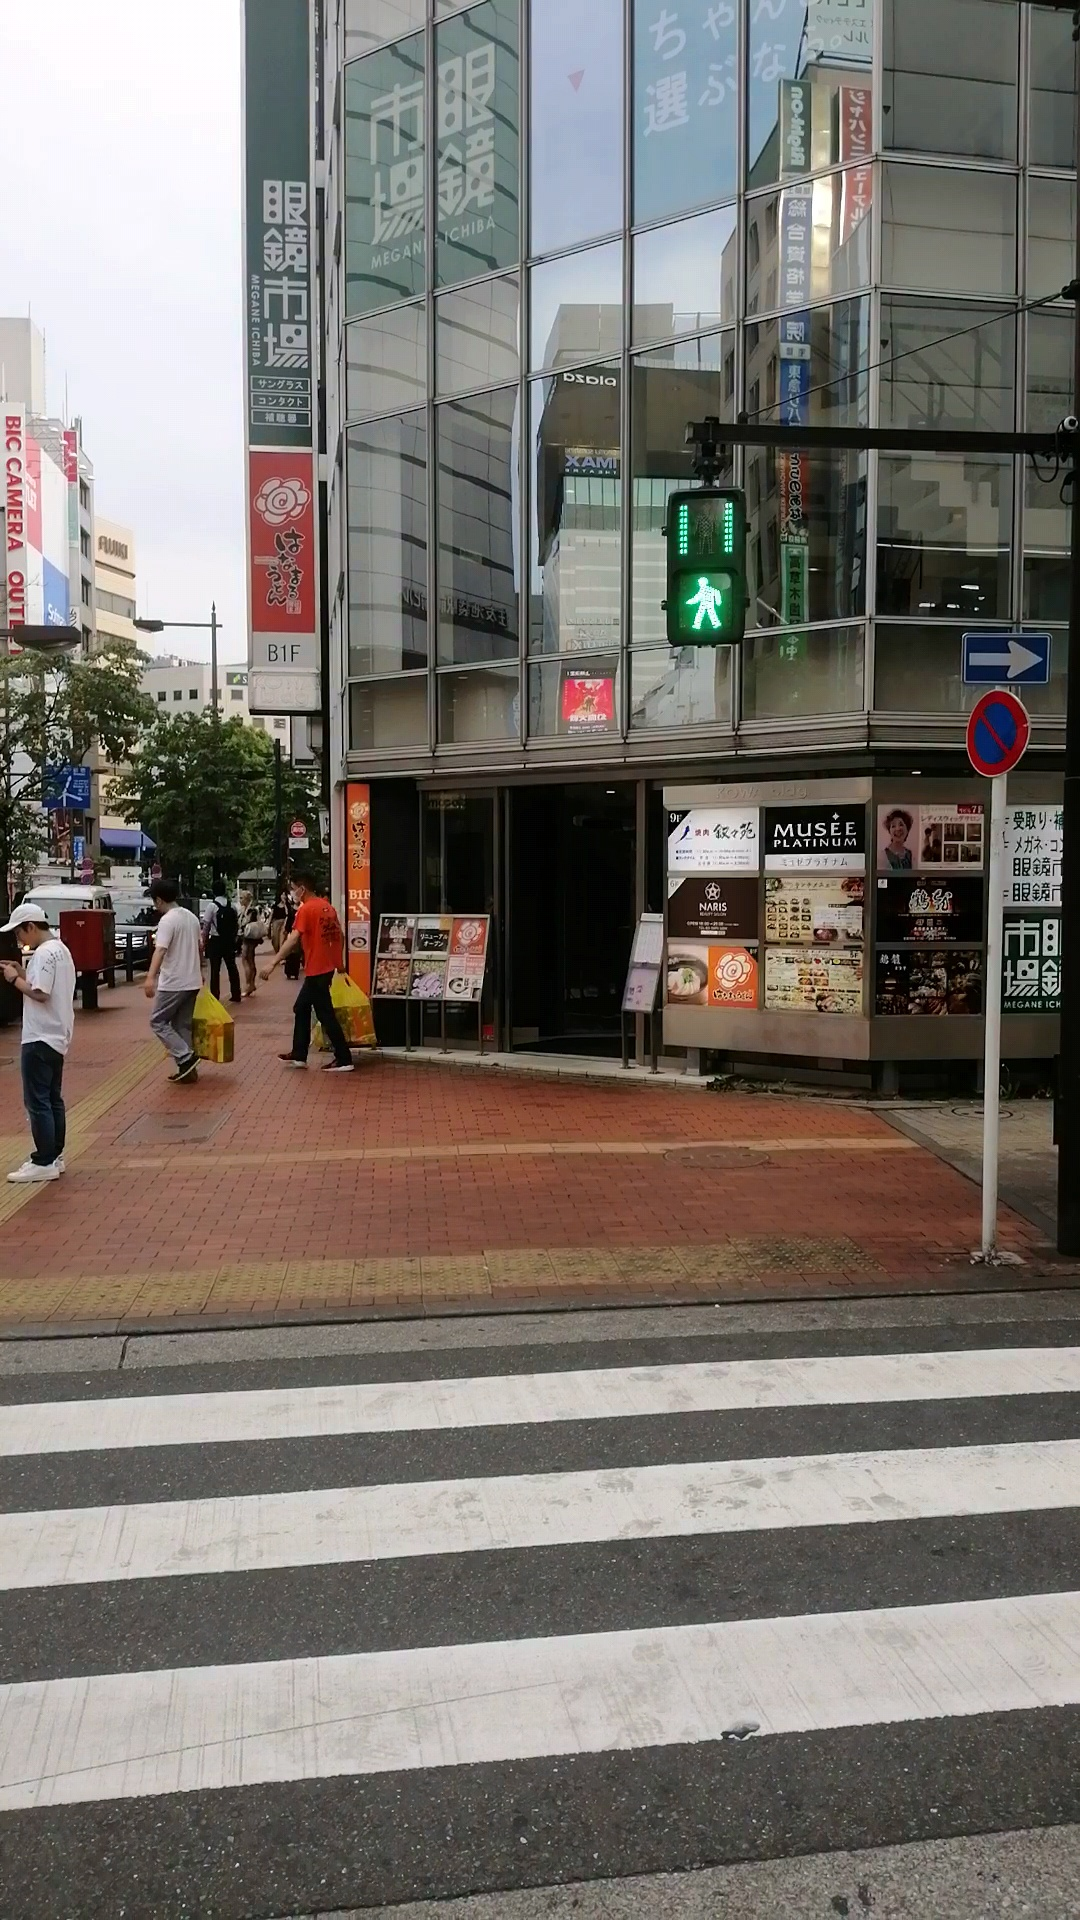green: (667, 488, 742, 646)
